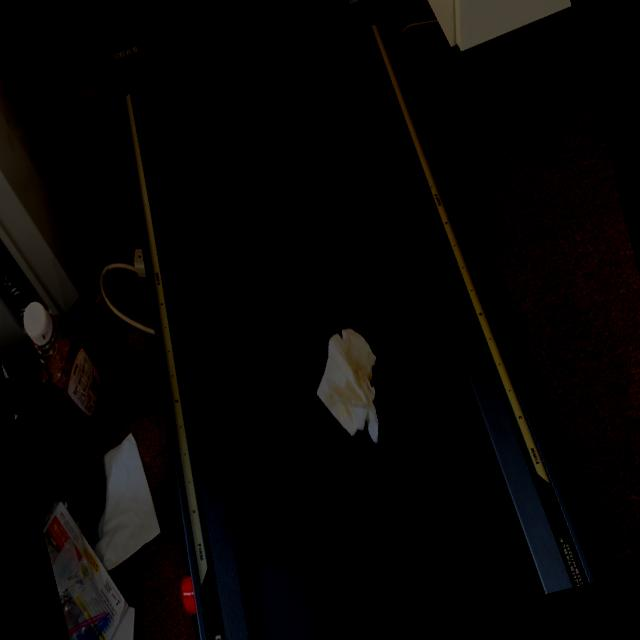Recycle: (297, 305, 413, 458)
